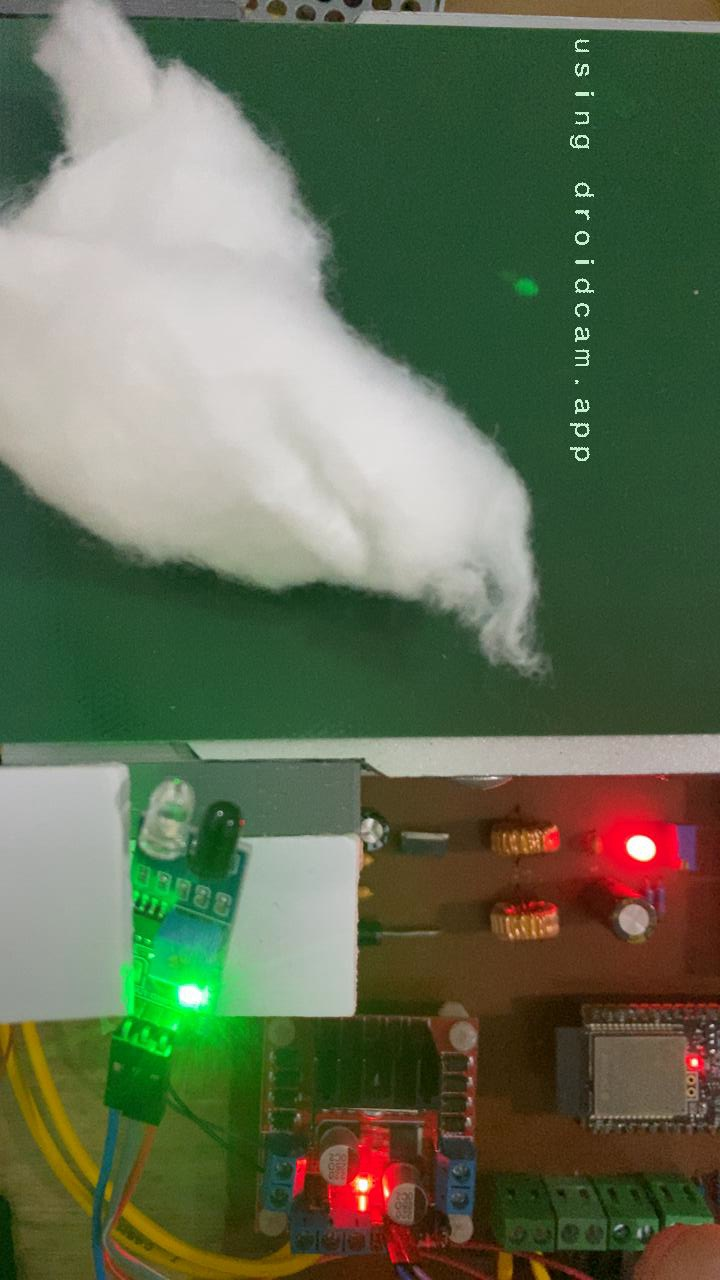cotton: (0, 24, 547, 675)
